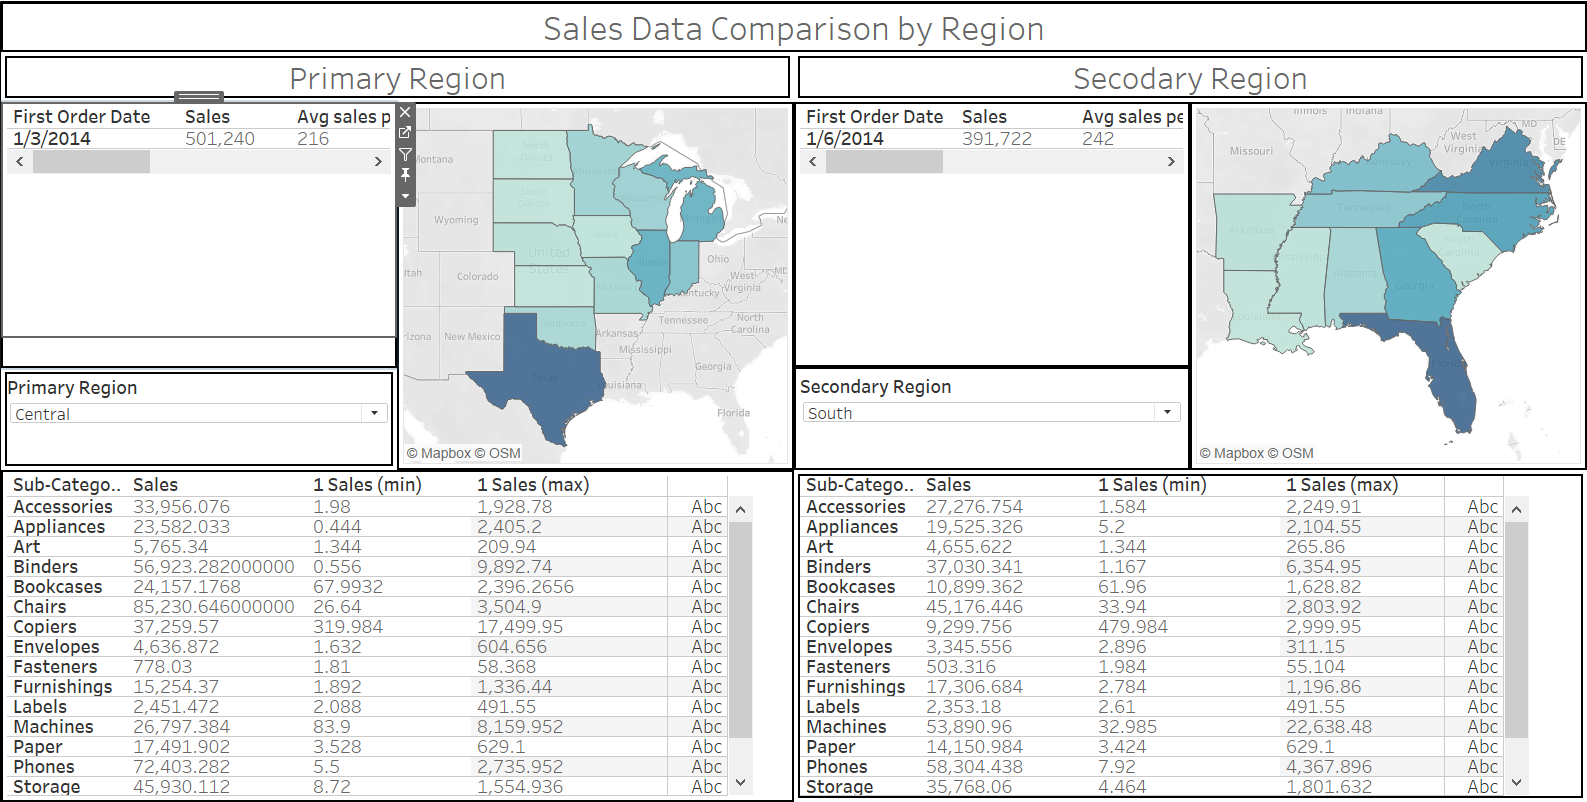

What the dashboard file says about the page in this screenshot:
{"tool":"tableau","page":{"name":"Final Dashboard","canvas":[1000,1000],"units":"permille","ordinal":0},"visuals":[{"type":"text","box":[7,13.4,985.9,56.2]},{"type":"text","box":[5.8,72.1,494.2,61.1]},{"type":"text","box":[500,72.1,494.2,61.1]},{"type":"worksheet","title":"Primary region data","mark":"Polygon","rows":["Calculation_93449704247410692","Sales","Calculation_93449704248848390","Calculation_93449704249229319","Calculation_93449704250626056","Calculation_93449704251785225"],"box":[7,135.6,244.5,283.6]},{"type":"worksheet","title":"Primary Region sales data with Map","mark":"Automatic","box":[254.1,135.6,244.6,445]},{"type":"worksheet","title":"Secondary region data","mark":"Polygon","rows":["Calculation_93449704247410692","Sales","Calculation_93449704248848390","Calculation_93449704249229319","Calculation_93449704250626056","Calculation_93449704251785225"],"box":[501.3,135.6,244.5,292.2]},{"type":"worksheet","title":"Secondary Region sales data with Map","mark":"Automatic","box":[748.4,135.6,244.6,445]},{"type":"parameter","param":"[Parameters].[Parameter 1]","box":[5.8,458.4,247.1,124.7]},{"type":"parameter","param":"[Parameters].[Parameter 2]","box":[501.3,459.6,244.5,73.4]},{"type":"worksheet","title":"Secondary Region sales data(min & max)","mark":"Automatic","rows":["Sub-Category","Sales","Sales (copy)_93449704245575682","1 Sales (min) (copy)_93449704245788675"],"box":[500,583.1,494.2,405.9]},{"type":"worksheet","title":"Primary Region sales data(min & max)","mark":"Automatic","rows":["Sub-Category","Sales","Sales (copy)_93449704245575682","1 Sales (min) (copy)_93449704245788675"],"box":[7,585.5,491.7,401.1]}]}

Visuals, with their boxes on the dashboard's canvas, which has no fixed pixel size, in thousandths of its width and height (x1, y1, x2, y2). These are canvas units, not pixel positions in the 1587x802 screenshot, which may show the page scaled, cropped or inside an application window:
text: l=7, t=13, r=993, b=70
text: l=6, t=72, r=500, b=133
text: l=500, t=72, r=994, b=133
"Primary region data" worksheet (Polygon marks): l=7, t=136, r=252, b=419
"Primary Region sales data with Map" worksheet: l=254, t=136, r=499, b=581
"Secondary region data" worksheet (Polygon marks): l=501, t=136, r=746, b=428
"Secondary Region sales data with Map" worksheet: l=748, t=136, r=993, b=581
parameter: l=6, t=458, r=253, b=583
parameter: l=501, t=460, r=746, b=533
"Secondary Region sales data(min & max)" worksheet: l=500, t=583, r=994, b=989
"Primary Region sales data(min & max)" worksheet: l=7, t=586, r=499, b=987
